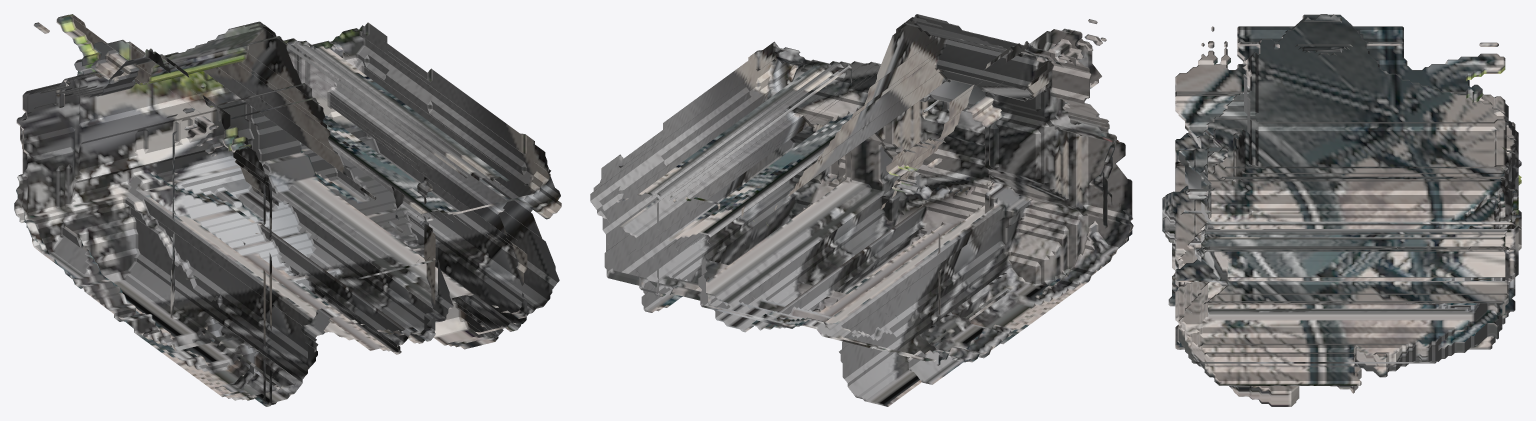
The picture shows the model from 3 angles, left to right: view 1: azimuth 30°, elevation 25°; view 2: azimuth 150°, elevation 25°; view 3: azimuth 270°, elevation 25°; orthographic projection. The views are drawn at different scales.
Parts seen in each view (by area): view 1: geometry_0; view 2: geometry_0; view 3: geometry_0.
Part boxes in pixels (x1,y1,x2,y2): geometry_0: (14, 14, 561, 406); geometry_0: (590, 14, 1133, 406); geometry_0: (1162, 14, 1521, 406).
Bounding box in the file's own units: 0.0342 × 0.03 × 0.0355.
